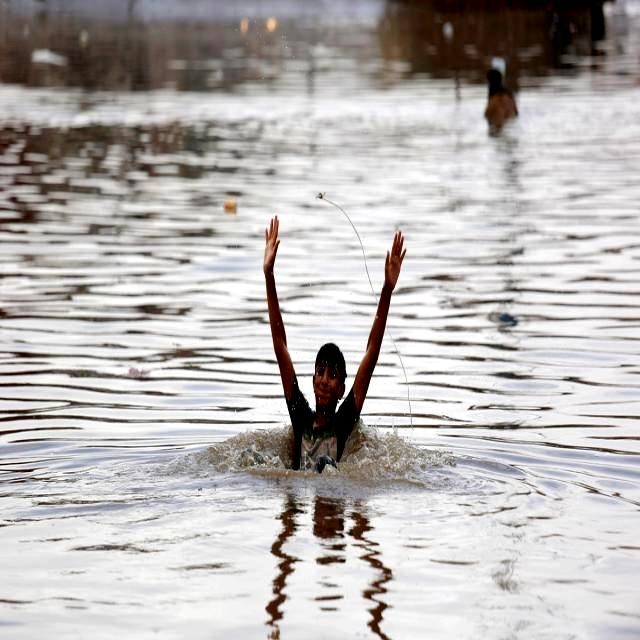civilian: (257, 212, 403, 498)
